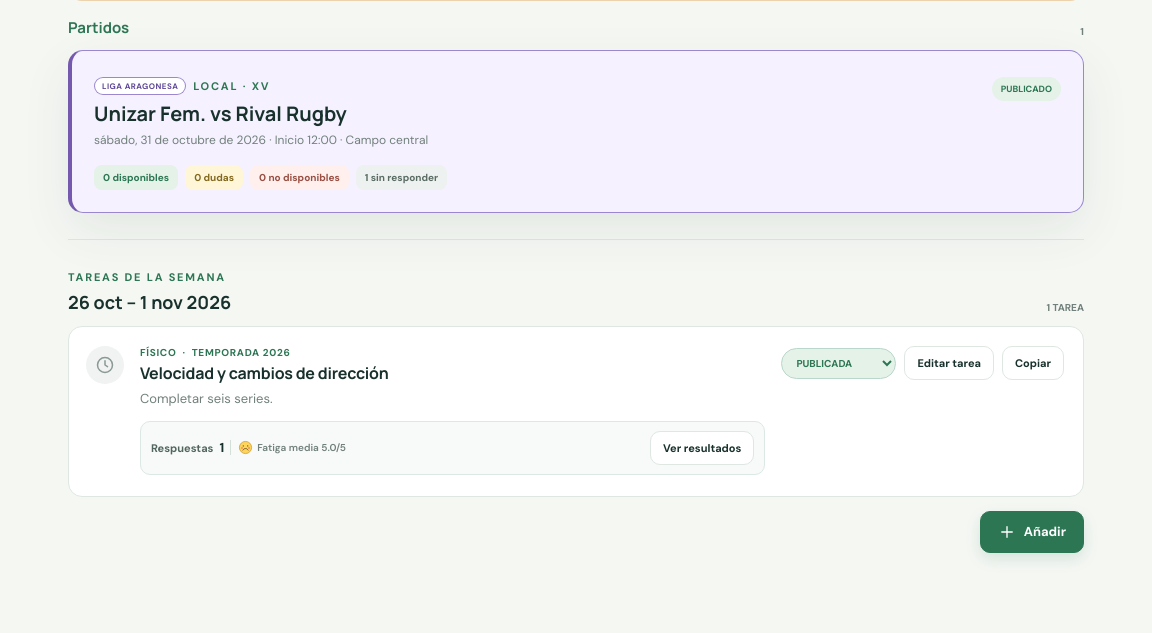
Test: CalendarView › offers the three contextual creation actions
This screenshot has width=1152, height=633.
(page scrolled)
Click the button "Añadir". click: (1032, 532)
box: [980, 511, 1084, 553]
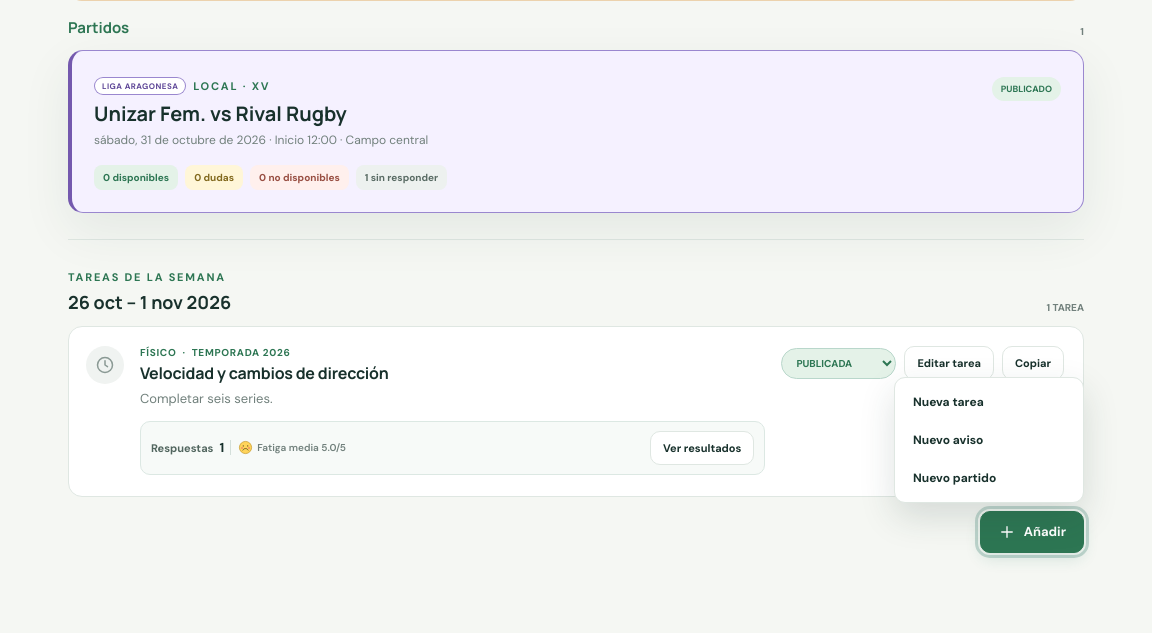
expect the menu item "Nueva tarea" is shown: met, box [901, 384, 1077, 420]
expect the menu item "Nuevo aviso" is shown: met, box [901, 422, 1077, 458]
expect the menu item "Nuevo partido" is shown: met, box [901, 460, 1077, 496]
